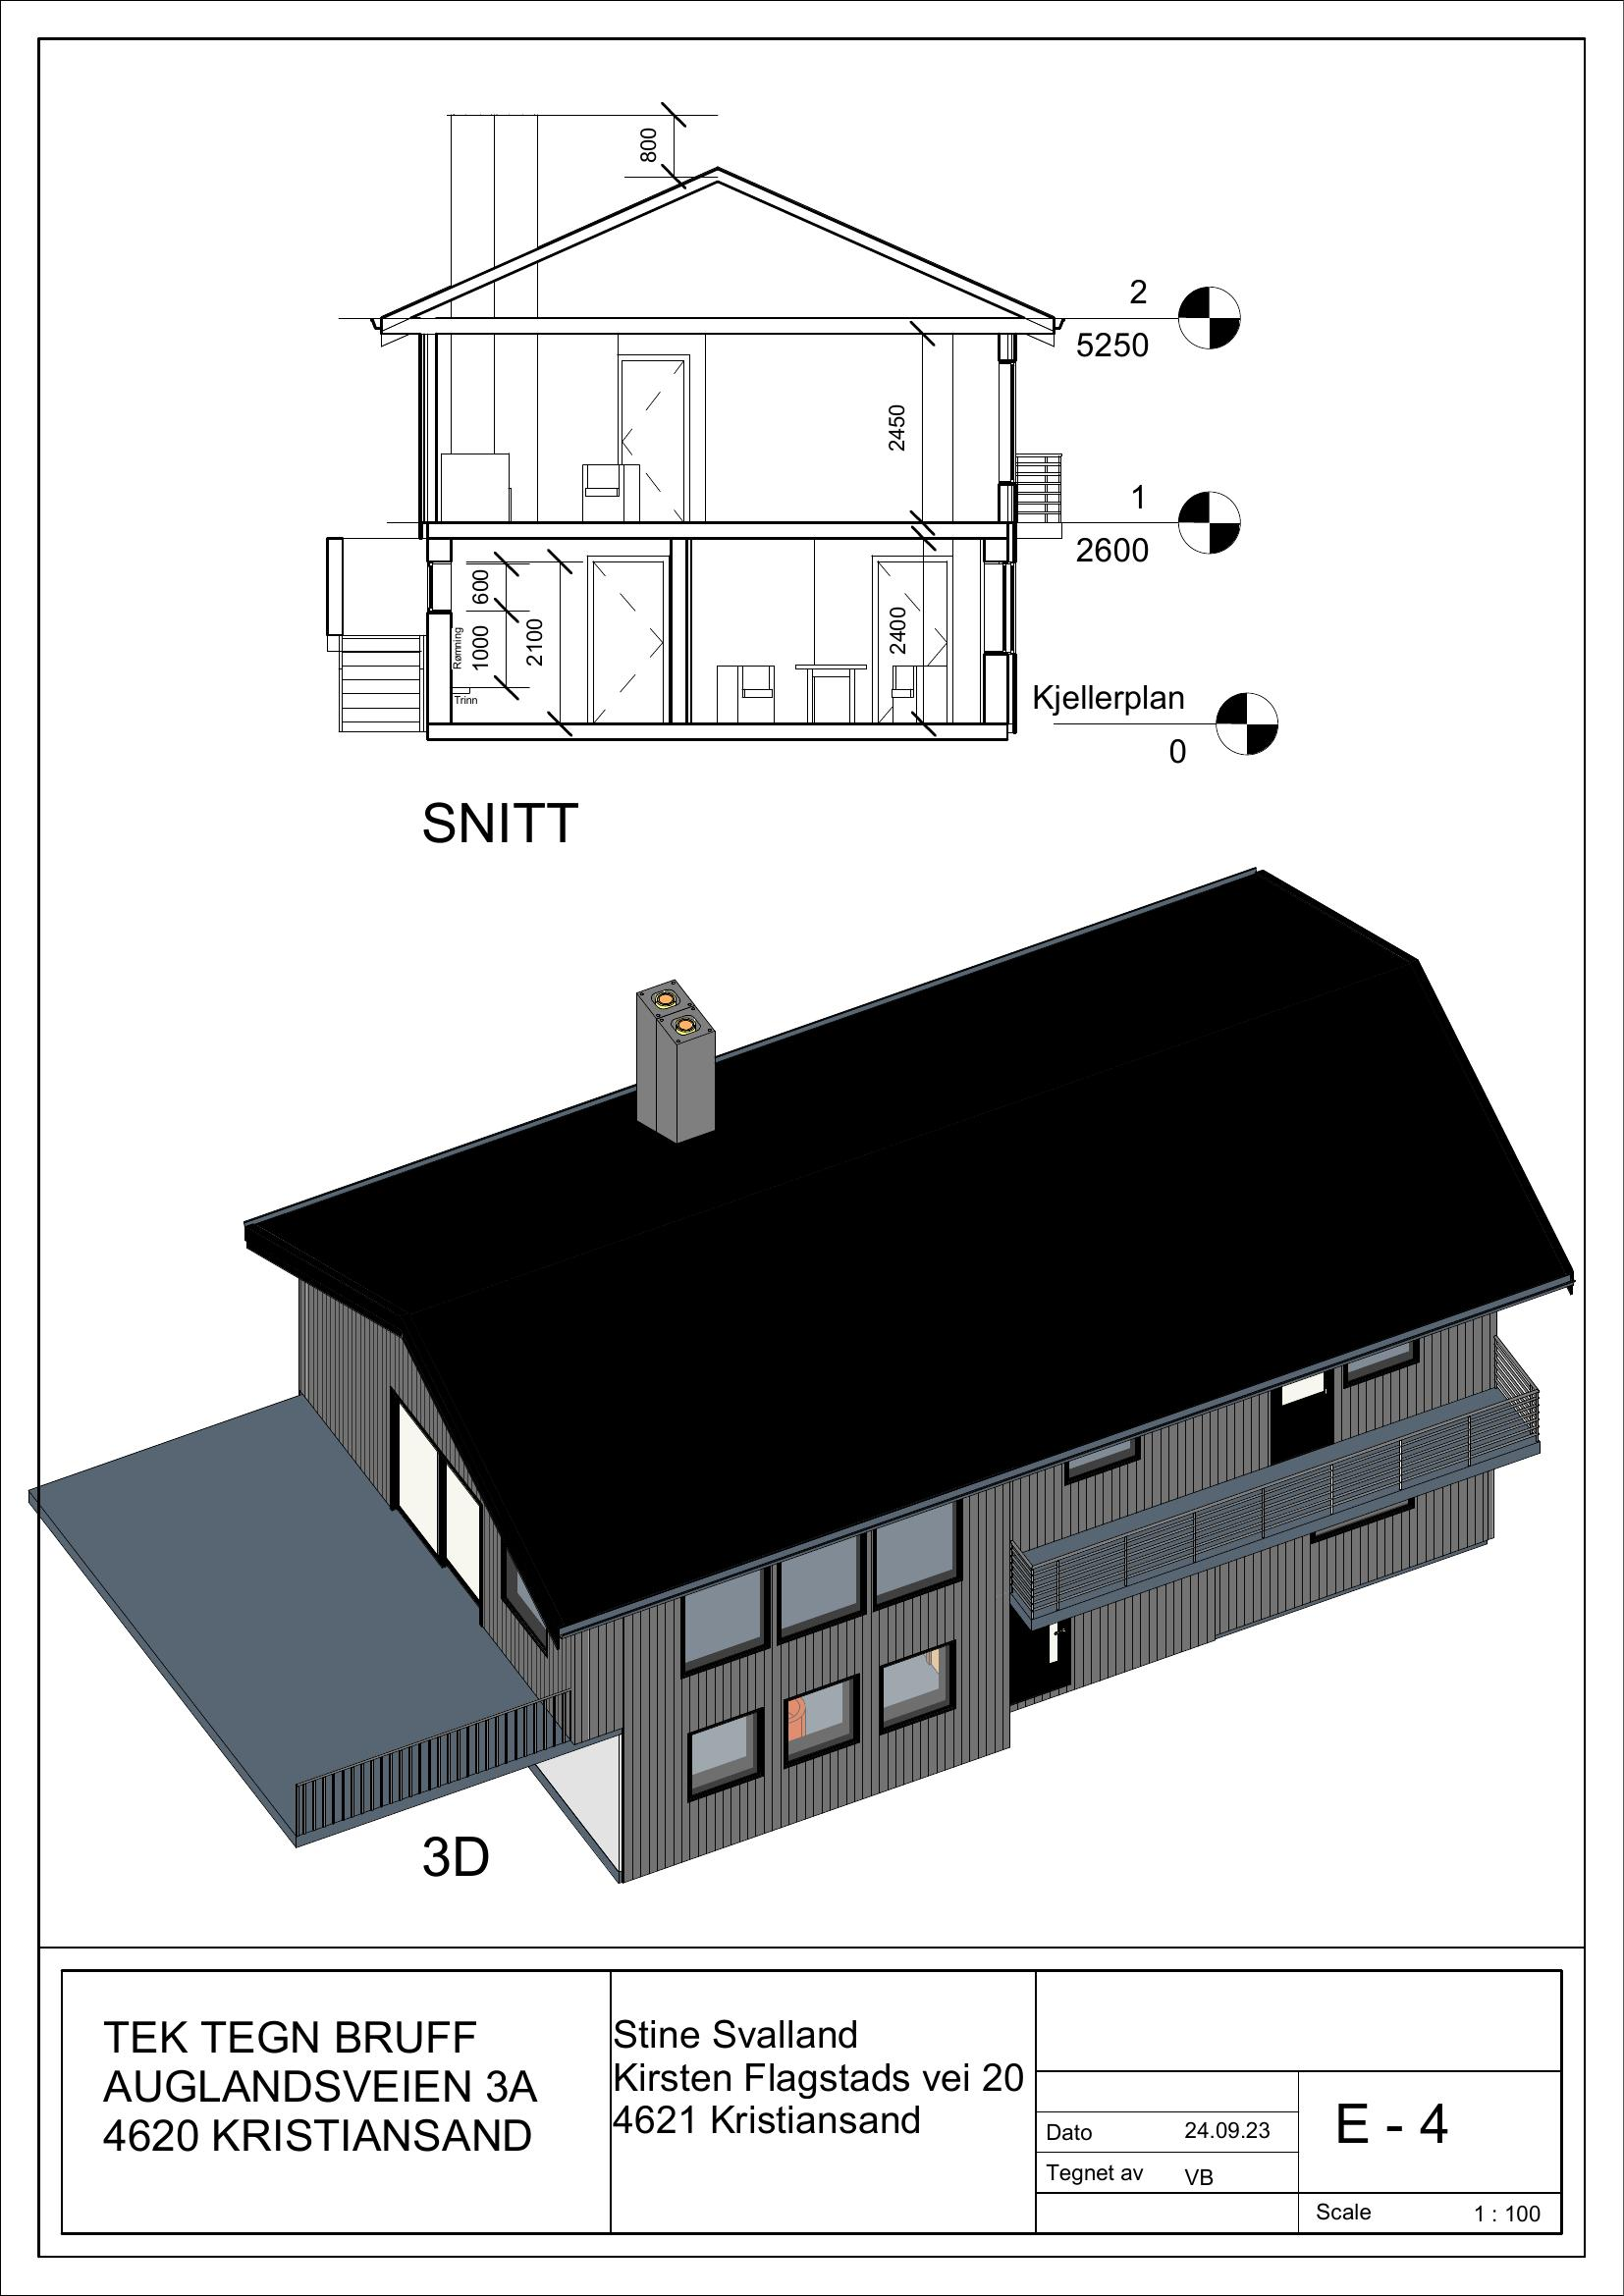snitt: (316, 107, 1079, 755)
